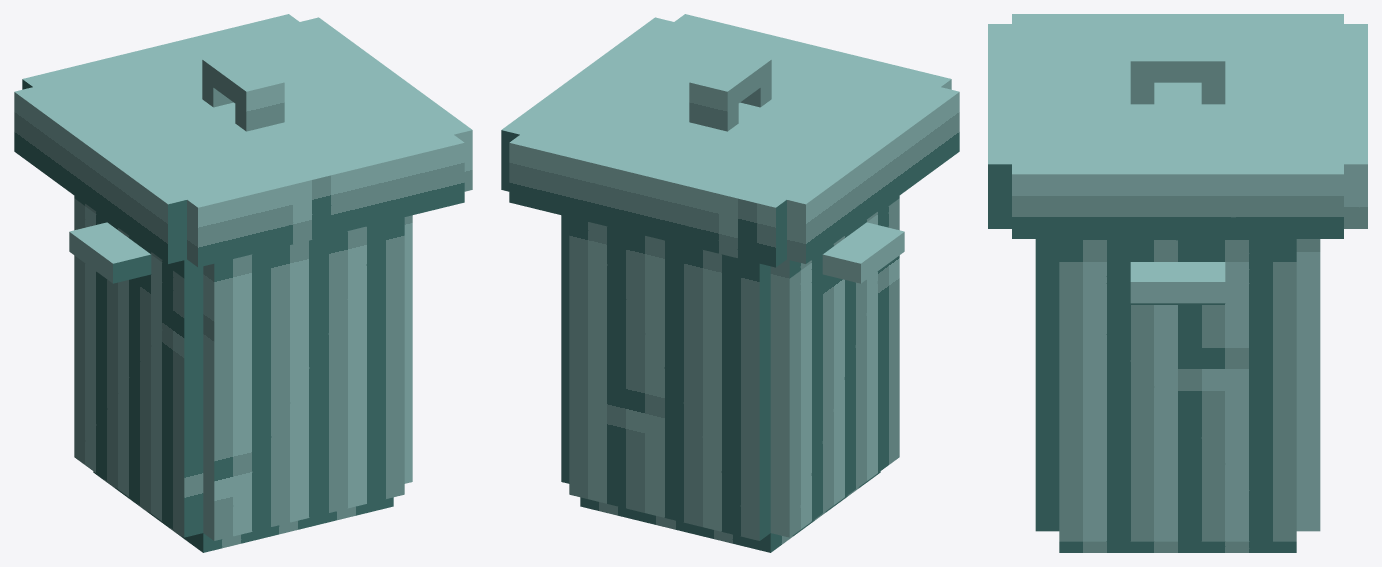
Rendered from trashcanao.fezao.glb.
The picture shows the model from 3 angles, left to right: view 1: azimuth 30°, elevation 25°; view 2: azimuth 150°, elevation 25°; view 3: azimuth 270°, elevation 25°; orthographic projection. The views are drawn at different scales.
Parts seen in each view (by area): view 1: TRASHCANAO; view 2: TRASHCANAO; view 3: TRASHCANAO.
Part boxes in pixels (left/top/right/bottom): TRASHCANAO: left=14, top=14, right=472, bottom=552; TRASHCANAO: left=501, top=14, right=959, bottom=552; TRASHCANAO: left=988, top=14, right=1367, bottom=552.
Size of the model in its own units: 1 by 1.31 by 1.
1 material, 1 textured.
